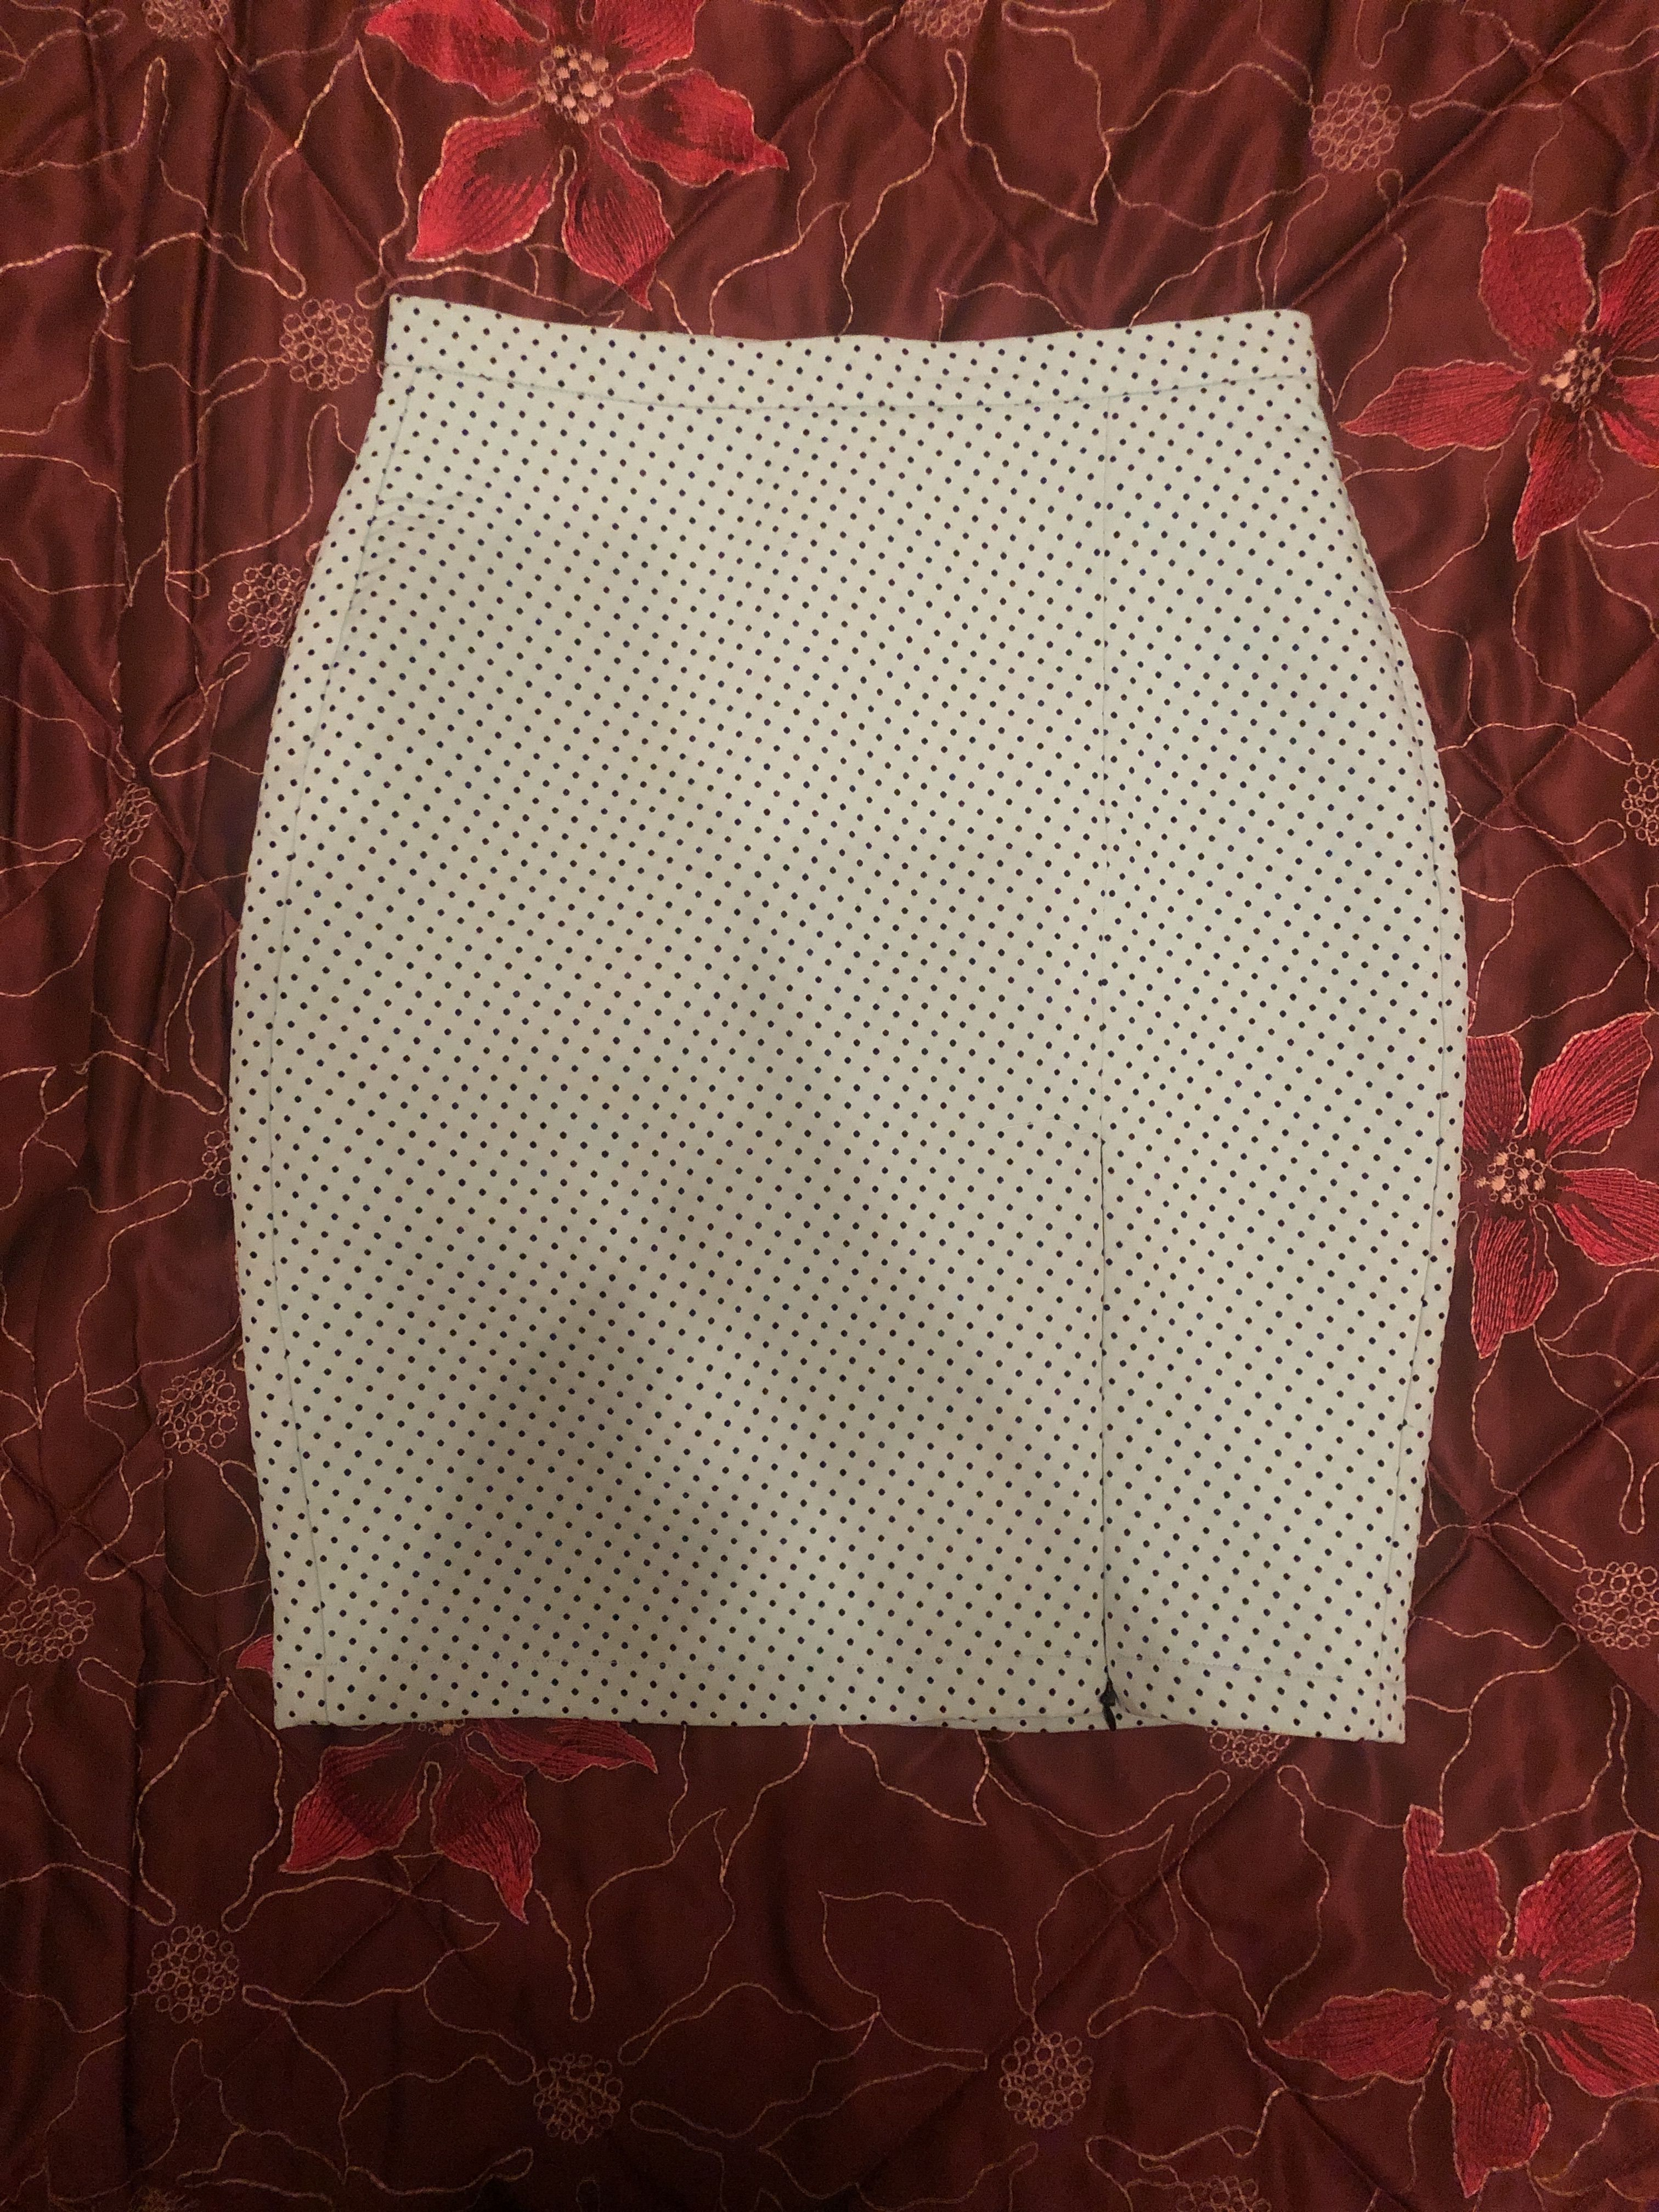clothes: (234, 270, 1434, 1759)
